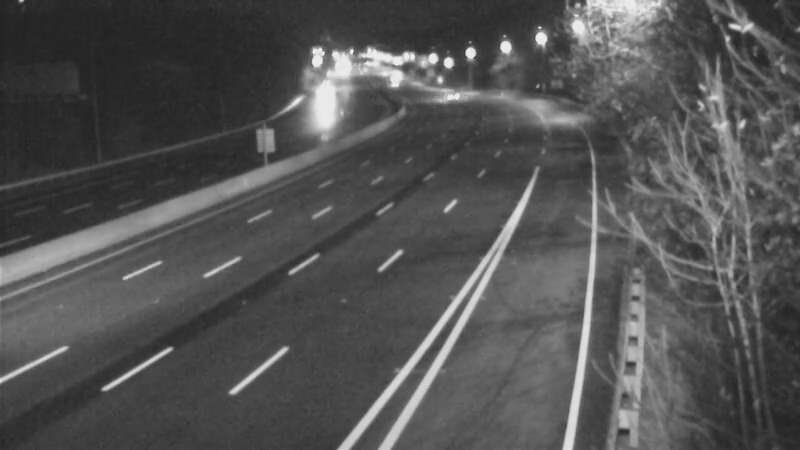vehicle: (368, 57, 418, 107), (418, 72, 468, 122), (299, 69, 349, 119)
